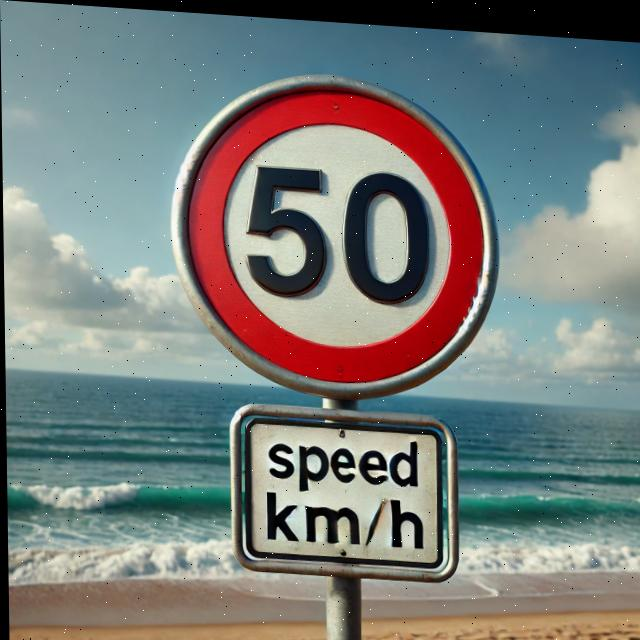Speed limit 50: (168, 61, 503, 404)
